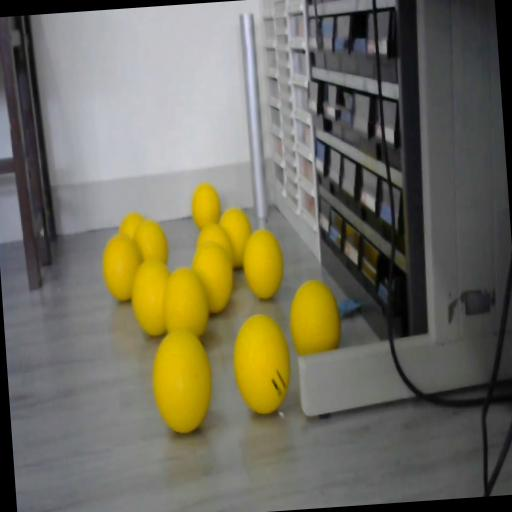FUEL: (148, 326, 215, 434), (230, 310, 294, 414), (286, 278, 342, 358), (190, 240, 236, 314), (240, 226, 286, 300), (100, 232, 144, 303), (218, 206, 254, 268), (190, 182, 222, 230), (118, 212, 146, 241)
